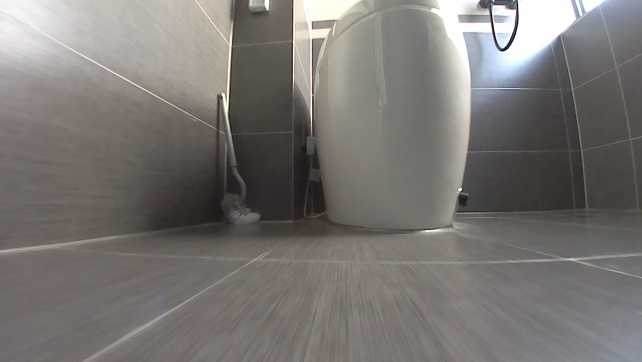toilet: (311, 0, 475, 232)
wire: (299, 158, 323, 220)
